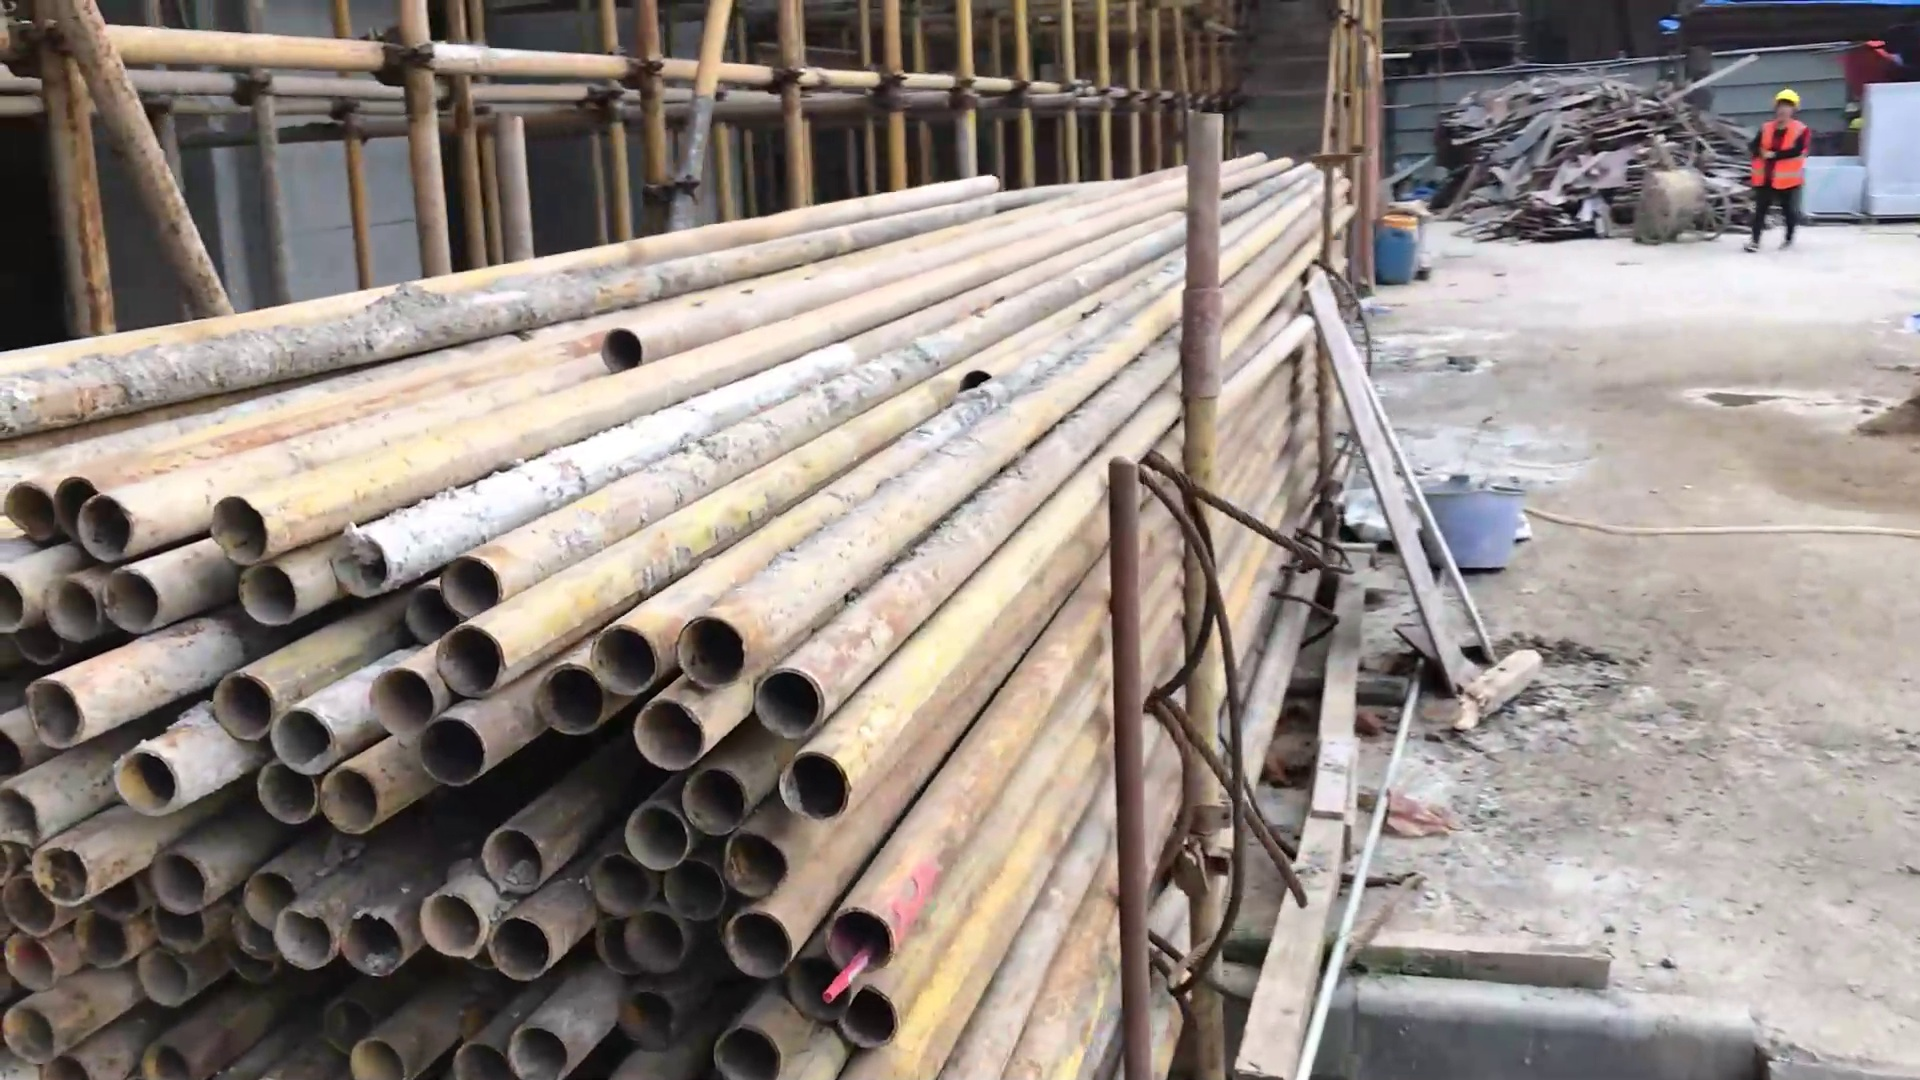brick: (1793, 81, 1920, 221)
handcart: (1625, 103, 1735, 258)
helmet: (1763, 86, 1809, 115)
person: (1740, 86, 1813, 257)
vest: (1744, 119, 1810, 200)
